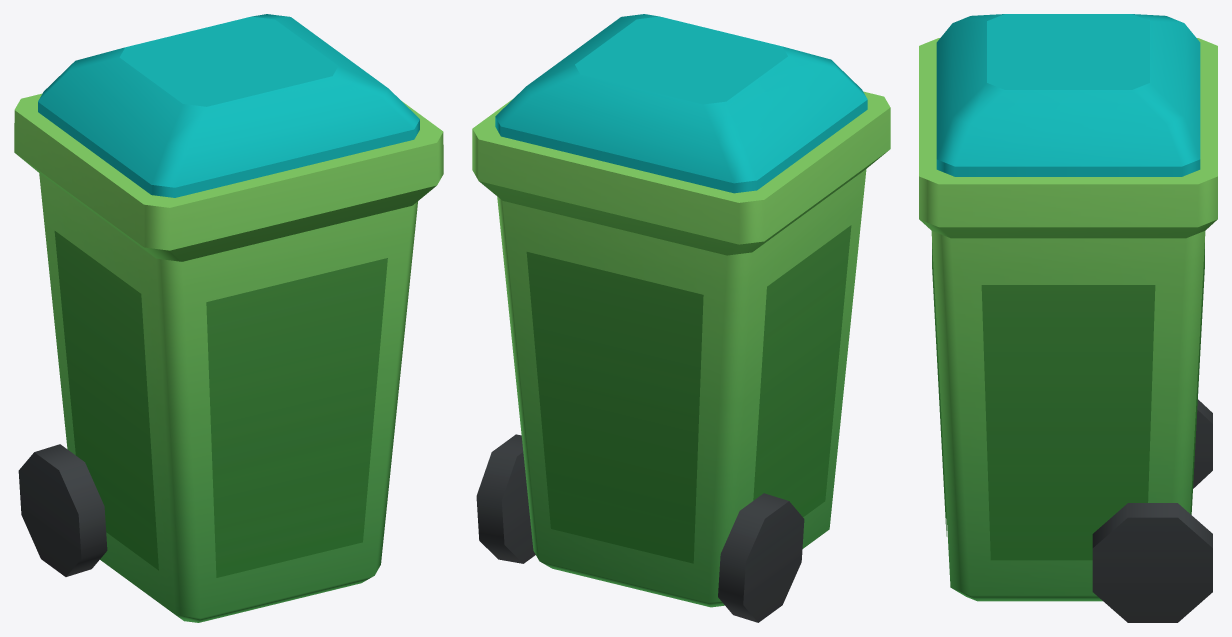
Rendered from Trash_Can_06.glb.
3 views of the same model, side by side, from view 1: azimuth 30°, elevation 25°; view 2: azimuth 150°, elevation 25°; view 3: azimuth 270°, elevation 25° (orthographic). The views are drawn at different scales.
Visible parts, largest first — view 1: Trash_Can_06; view 2: Trash_Can_06; view 3: Trash_Can_06.
Part boxes in pixels (x1,y1,x2,y2): Trash_Can_06: (14, 14, 443, 622); Trash_Can_06: (472, 14, 890, 622); Trash_Can_06: (919, 14, 1217, 622).
Bounding box in the file's own units: 0.7397 × 1.19 × 0.6374.
1 material, 1 textured.
